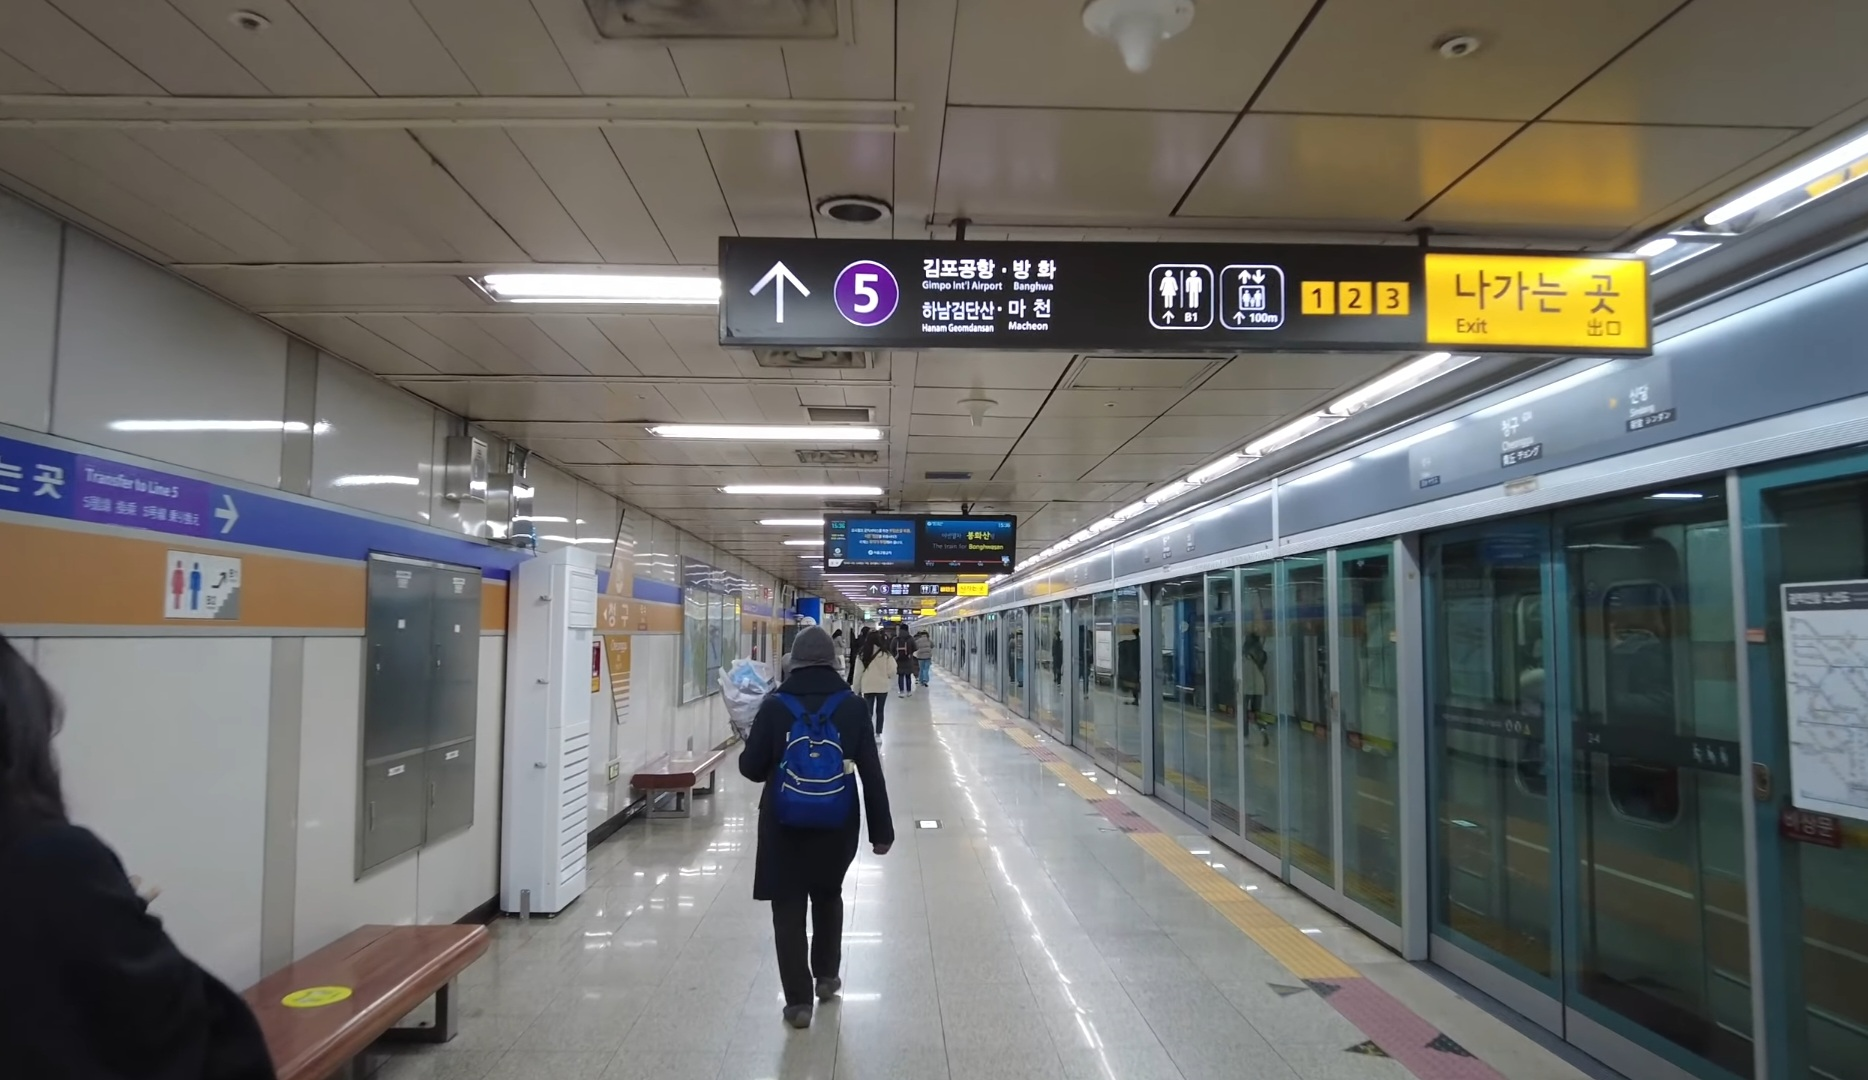signBoard: (714, 235, 1664, 366)
